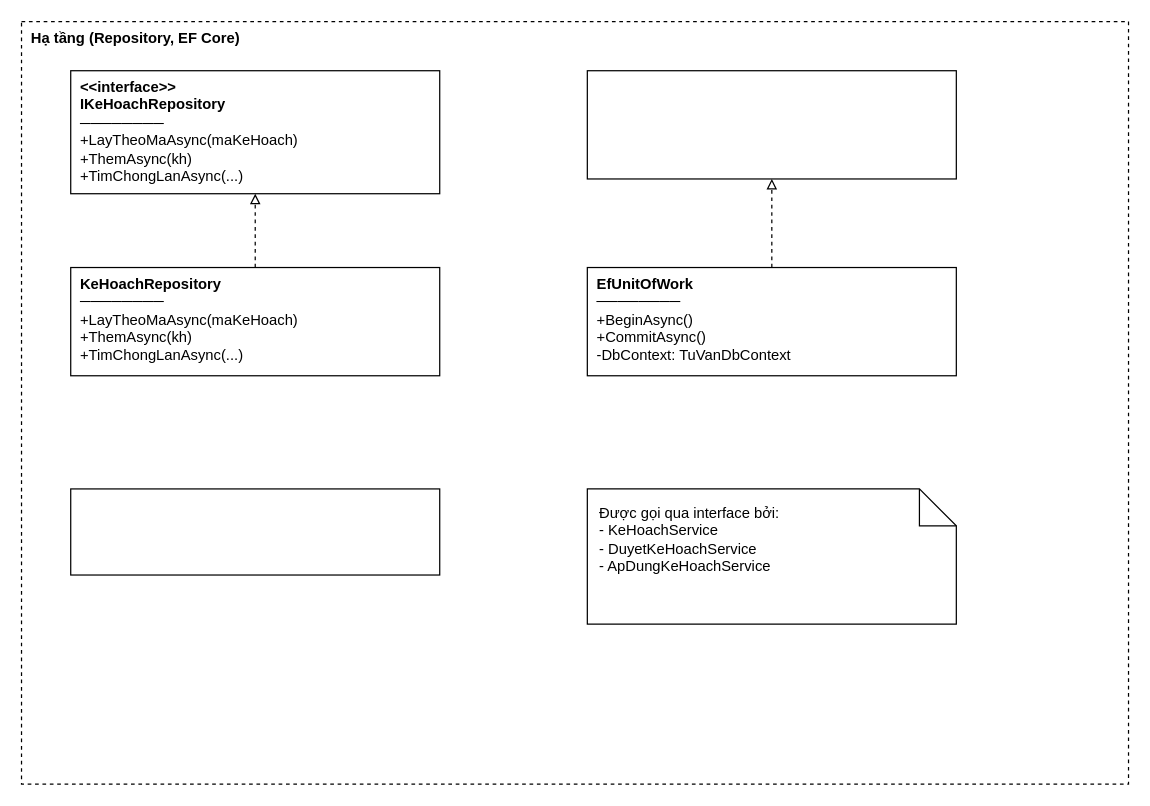
The diagram is 1150 pixels wide and 806 high, and some of its shapes have lost their labels. Each missing label, with the centre of its shape:
<<interface>> IPhieuDuyetRepository ──────── +ThemAsync(phieu): the point at 254,531
<<interface>> IUnitOfWork ──────── +BeginAsync() +CommitAsync(): the point at 771,124
